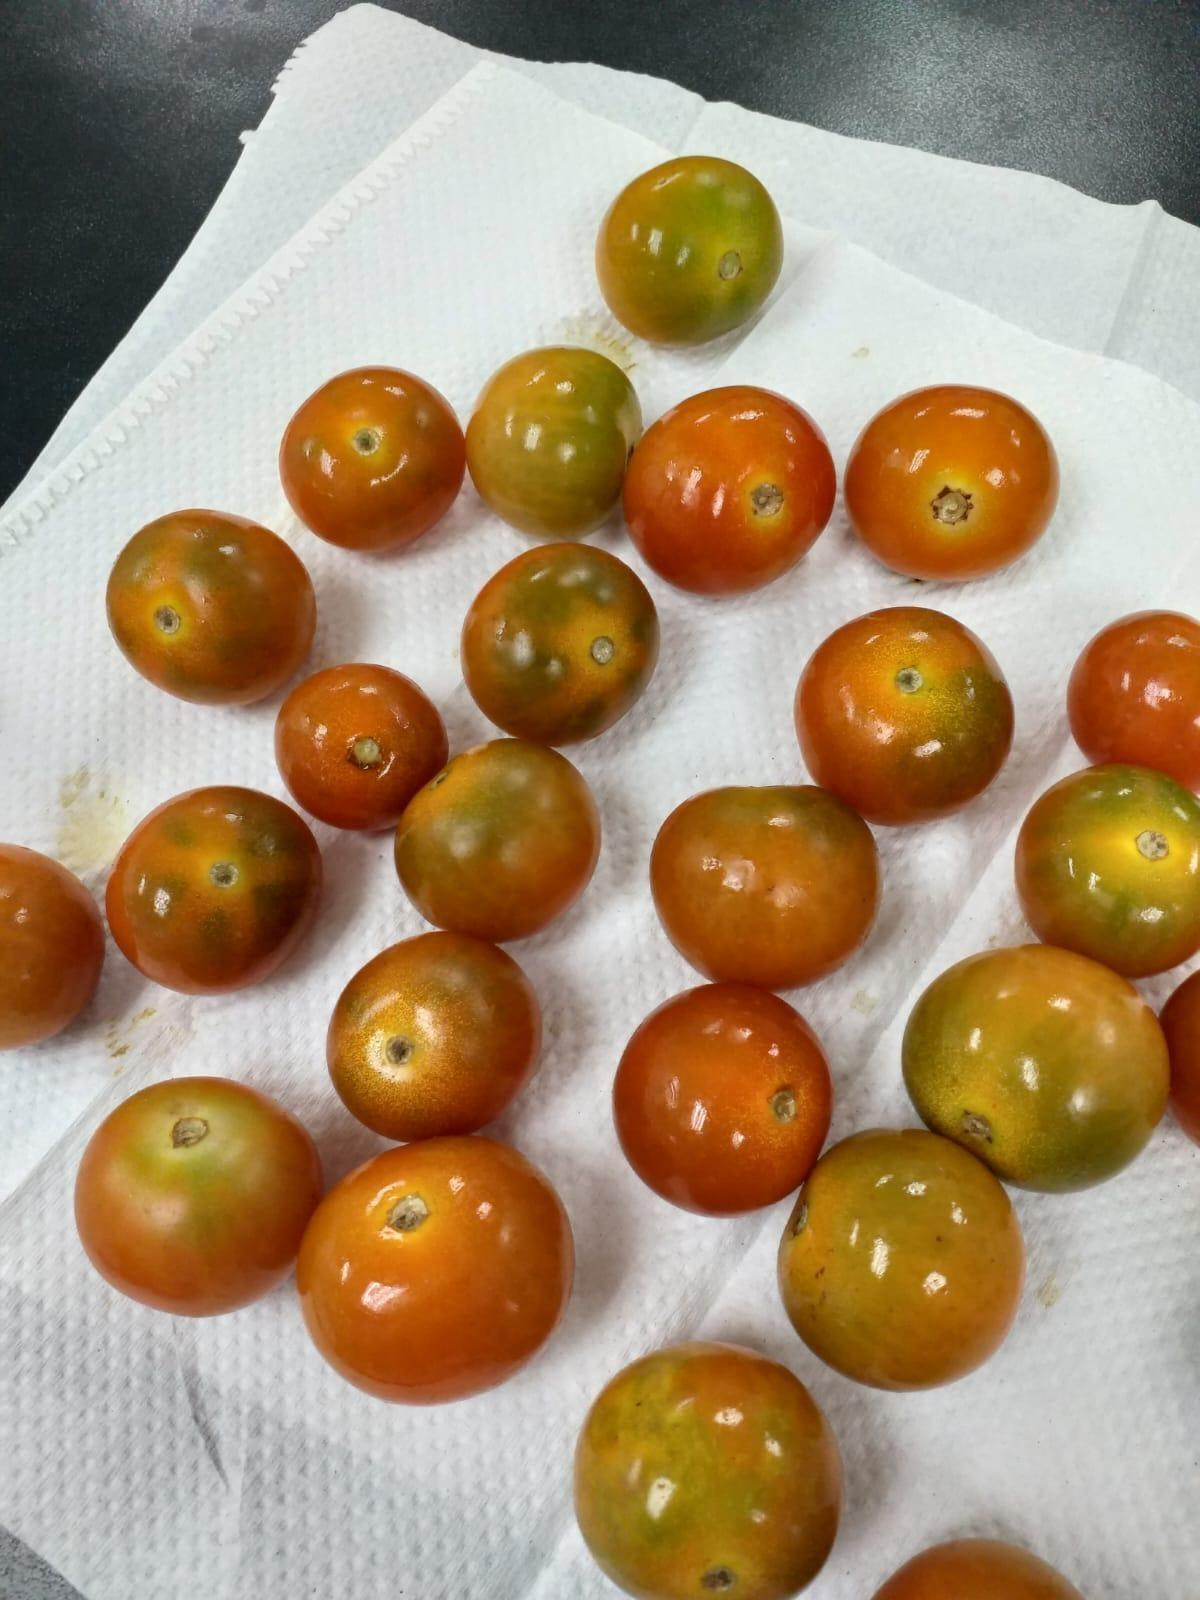Rugose tomato: (575, 1344, 843, 1600), (903, 944, 1168, 1194), (778, 1128, 1025, 1391), (76, 1078, 321, 1315), (794, 606, 1013, 824), (649, 785, 880, 990), (325, 931, 539, 1141), (106, 787, 321, 994), (392, 737, 600, 941), (106, 509, 315, 707), (460, 542, 658, 746), (1016, 762, 1200, 978), (597, 156, 784, 346), (279, 365, 465, 551), (465, 346, 644, 538)
